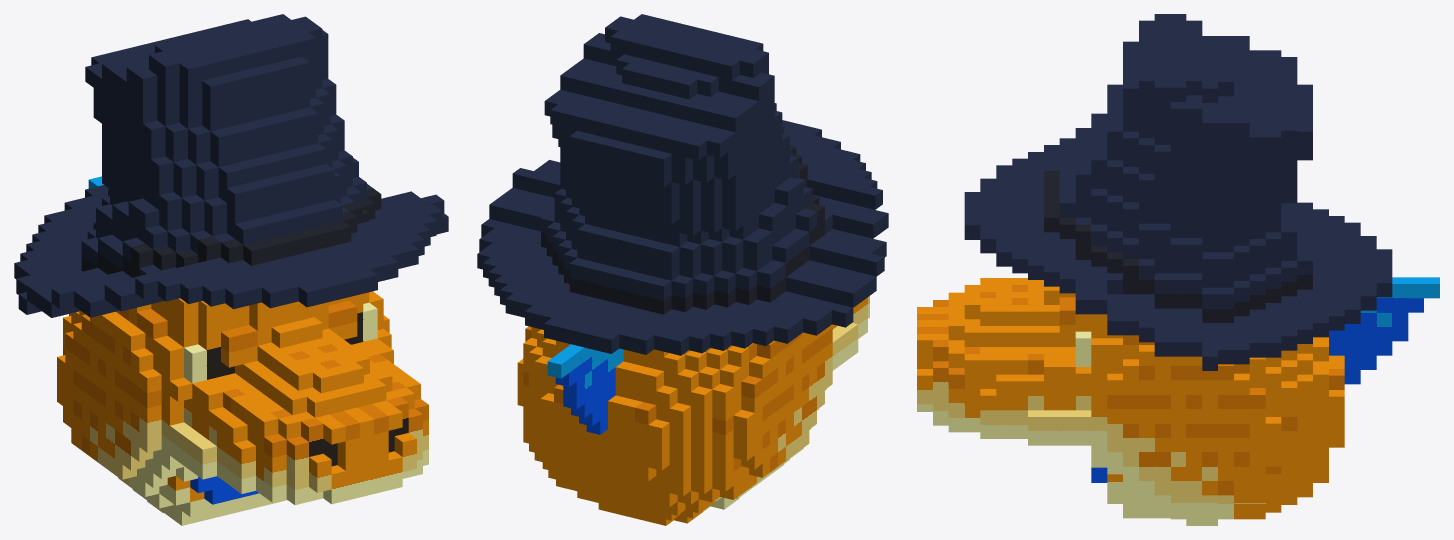
Rendered from top hat_rainbow spectacles.gltf.
3 views of the same model, side by side, from view 1: azimuth 30°, elevation 25°; view 2: azimuth 150°, elevation 25°; view 3: azimuth 270°, elevation 25° (orthographic). The views are drawn at different scales.
Visible parts, largest first — view 1: C54_H_TopH_RedG_RBSpec_SkyD_LazerL-Mesh; view 2: C54_H_TopH_RedG_RBSpec_SkyD_LazerL-Mesh; view 3: C54_H_TopH_RedG_RBSpec_SkyD_LazerL-Mesh.
Boxes of the visible parts, bbox=[...] form: C54_H_TopH_RedG_RBSpec_SkyD_LazerL-Mesh: bbox=[14, 14, 448, 525]; C54_H_TopH_RedG_RBSpec_SkyD_LazerL-Mesh: bbox=[477, 14, 888, 525]; C54_H_TopH_RedG_RBSpec_SkyD_LazerL-Mesh: bbox=[917, 14, 1439, 525].
Size of the model in its own units: 27 by 31 by 33.
1 material, 1 textured.
